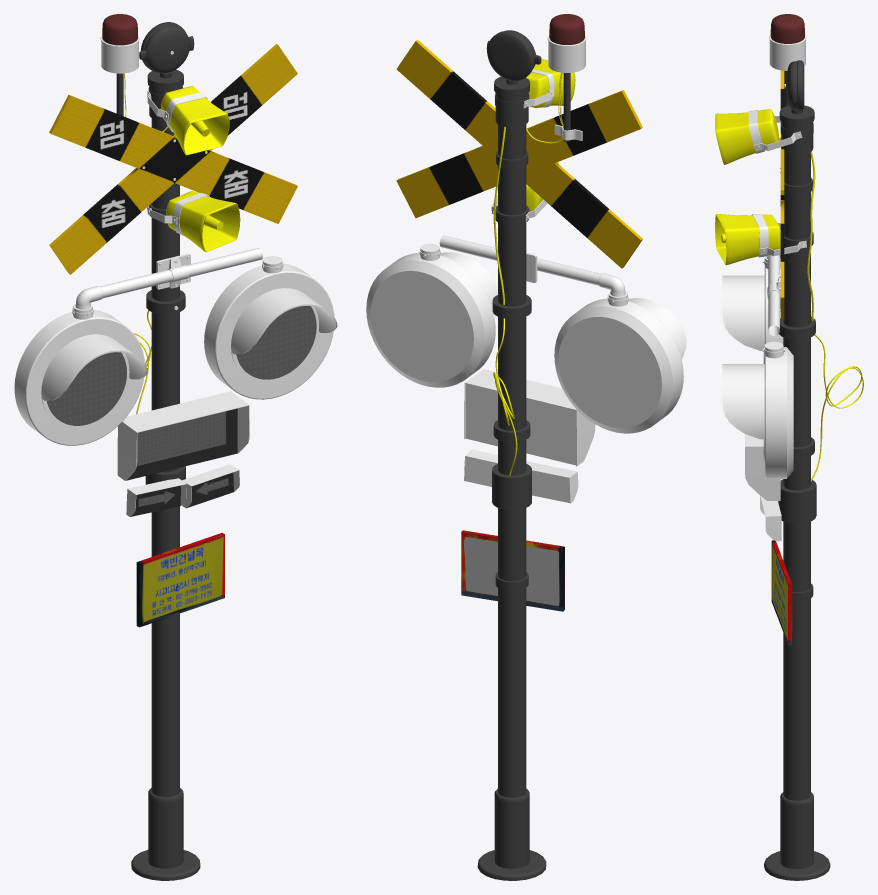
The model's file is SampleTest.glb.
3 renders of one model, left to right at view 1: azimuth 30°, elevation 25°; view 2: azimuth 150°, elevation 25°; view 3: azimuth 270°, elevation 25°, orthographic. The views are drawn at different scales.
Parts seen in each view (by area): view 1: pCube7, pCylinder1, pCylinder2, pCylinder96, pCube10, pCube16, pCube24, pCylinder6, pCylinder81, pCylinder7, pCylinder102, polySurface5 (+13 smaller); view 2: pCube7, pCylinder1, pCylinder96, pCylinder2, pCube10, pCube23, pCylinder22, pCube24, pCylinder24, pCylinder3, pCylinder46, pCylinder26 (+8 smaller); view 3: pCylinder1, pCylinder96, pCylinder7, pCylinder102, polySurface1, pCylinder22, polySurface5, pCube10, pCube24, pCylinder46, pCylinder26, pCube7 (+14 smaller).
Boxes of the visible parts, box(x1,y1,x2,y2) form: pCube7: box(49, 44, 297, 274); pCylinder1: box(151, 118, 179, 796); pCylinder2: box(14, 310, 144, 445); pCylinder96: box(204, 263, 334, 399); pCube10: box(136, 533, 224, 627); pCube16: box(126, 408, 237, 480); pCube24: box(117, 391, 249, 480); pCylinder6: box(47, 352, 126, 425); pCylinder81: box(236, 306, 316, 379); pCylinder7: box(42, 335, 147, 400); pCylinder102: box(231, 288, 337, 354); polySurface5: box(160, 86, 229, 155); pCube7: box(396, 39, 642, 268); pCylinder1: box(498, 124, 526, 797); pCylinder96: box(366, 252, 495, 387); pCylinder2: box(554, 298, 683, 433); pCube10: box(461, 530, 564, 611); pCube23: box(466, 383, 575, 465); pCylinder22: box(494, 788, 529, 868); pCube24: box(464, 369, 595, 466); pCylinder24: box(486, 30, 541, 80); pCylinder3: box(439, 235, 601, 285); pCylinder46: box(492, 464, 531, 510); pCylinder26: box(477, 850, 546, 880); pCylinder1: box(783, 152, 810, 800); pCylinder96: box(764, 347, 793, 478); pCylinder7: box(722, 275, 763, 350); pCylinder102: box(722, 364, 763, 439); polySurface1: box(715, 214, 780, 265); pCylinder22: box(780, 792, 813, 868); polySurface5: box(715, 109, 778, 164); pCube10: box(771, 540, 792, 645); pCube24: box(745, 434, 780, 500); pCylinder46: box(778, 479, 816, 523); pCylinder26: box(764, 851, 830, 880); pCube7: box(780, 70, 784, 320).
Size of what is drawn, in the model's own units: 1.92 by 5.12 by 0.8376.
5 materials, 2 textured.
